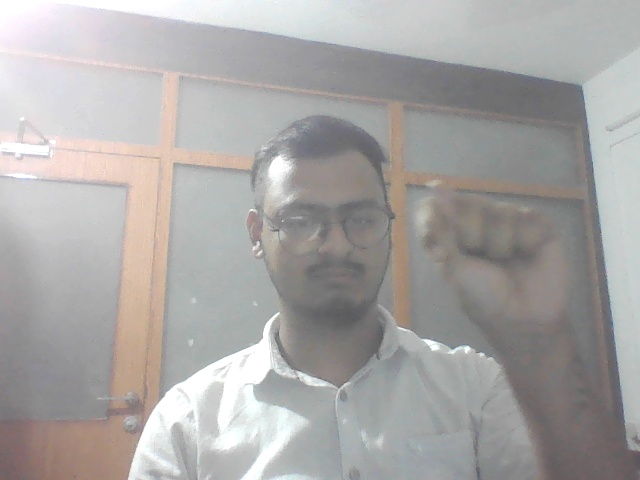Toilet: (408, 173, 584, 344)
